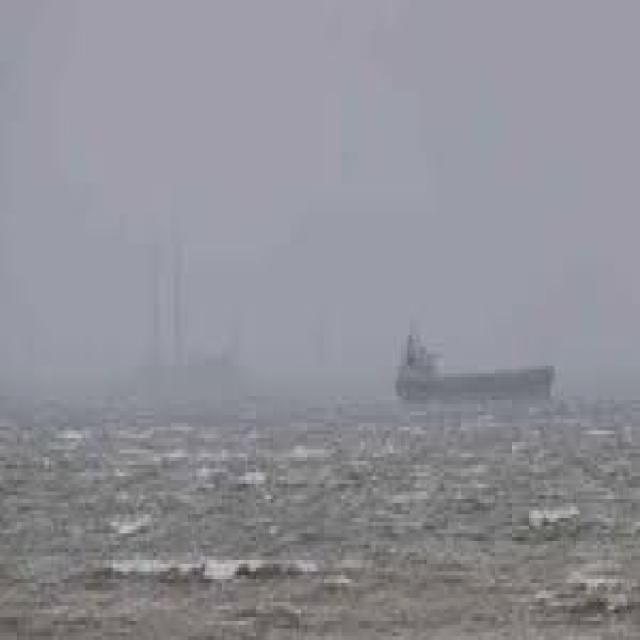cargoship: (376, 312, 560, 410)
